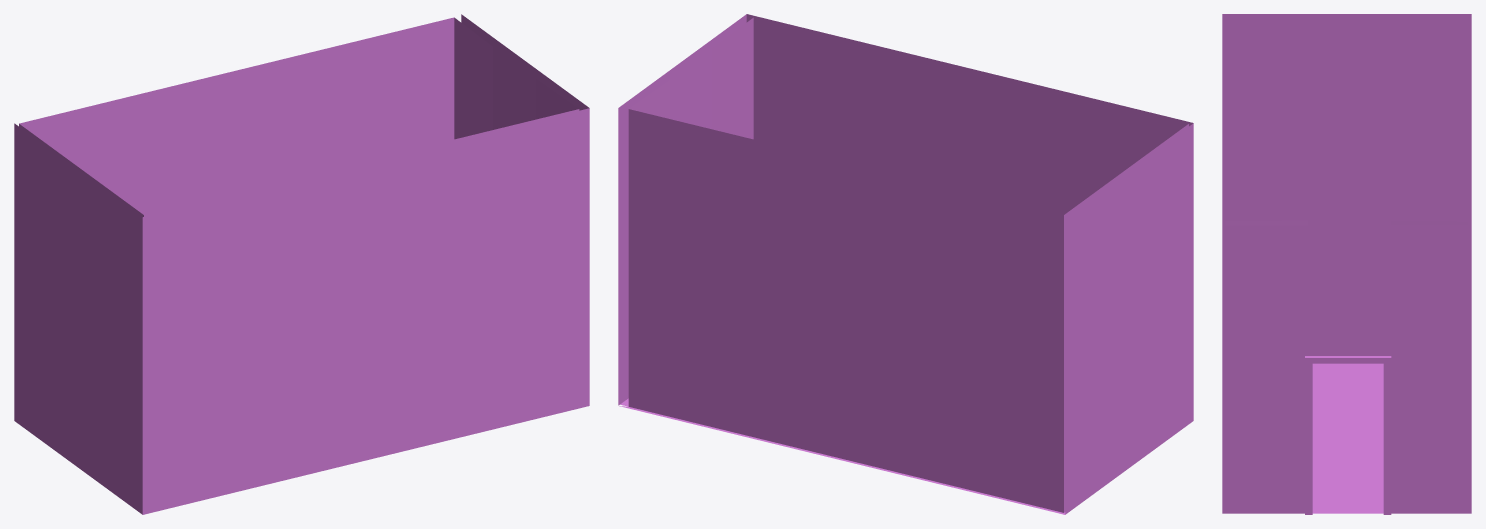
The model's file is CuartoFinal.fbx.
3 views of the same model, side by side, from view 1: azimuth 30°, elevation 25°; view 2: azimuth 150°, elevation 25°; view 3: azimuth 270°, elevation 25° (orthographic). The views are drawn at different scales.
Parts seen in each view (by area): view 1: Cube.034; view 2: Cube.034; view 3: Cube.034, Cube.035, Puerta_PP.003.
Boxes of the visible parts, x1,y1,x2,y2 form: Cube.034: [14, 14, 589, 514]; Cube.034: [618, 14, 1193, 514]; Cube.034: [1222, 14, 1471, 513]; Cube.035: [1312, 363, 1383, 513]; Puerta_PP.003: [1305, 356, 1391, 514].
Bounding box in the file's own units: 641 × 404 × 317.
